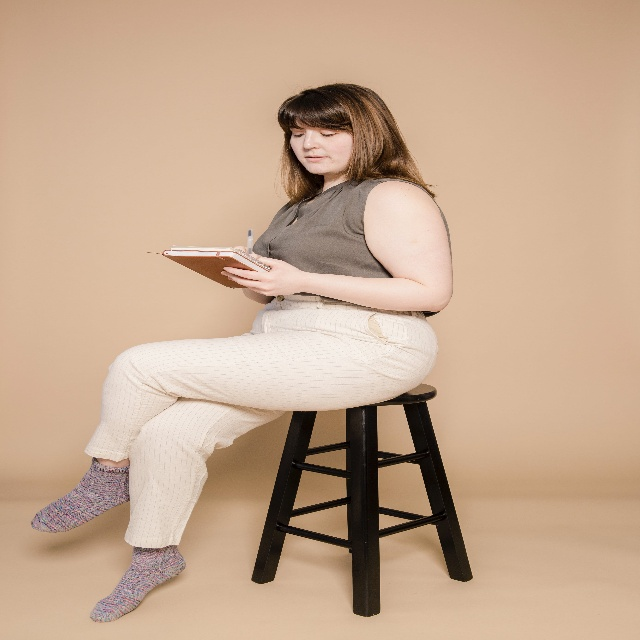Sin_guantes: (219, 252, 298, 298)
